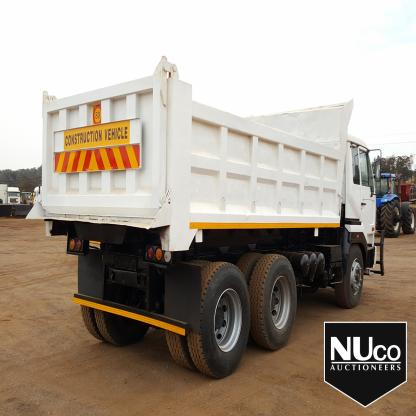dump_truck: (33, 48, 394, 375)
